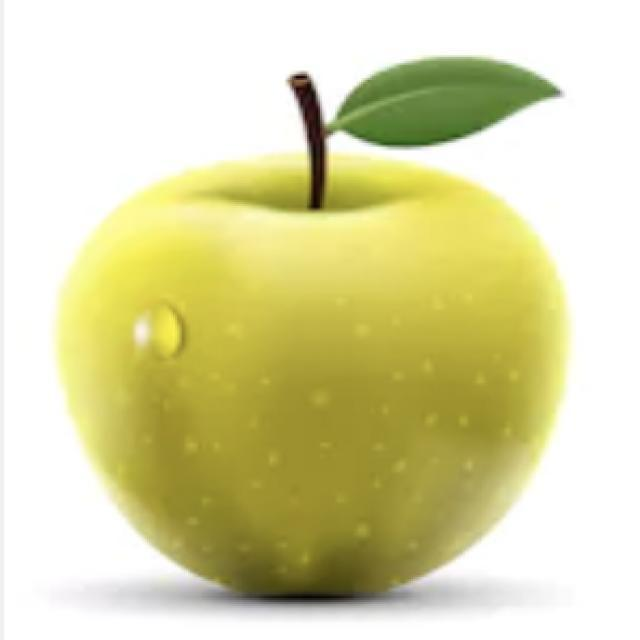Fresh Apple: (75, 155, 558, 605)
